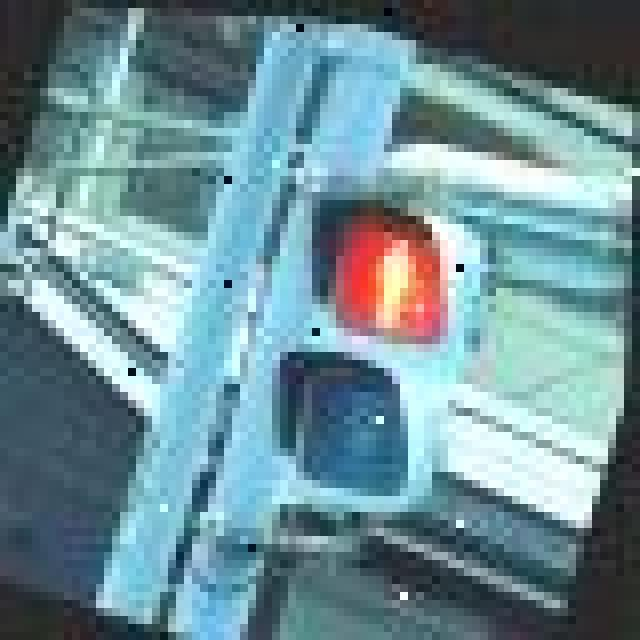redlight: (271, 189, 475, 523)
